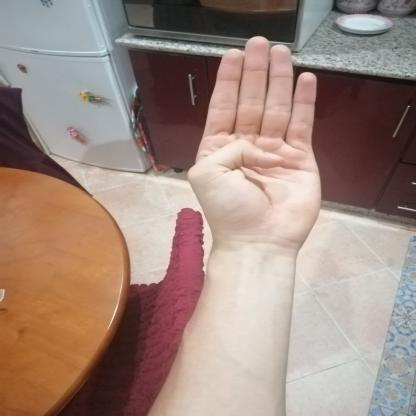KAAF: (168, 23, 340, 267)
